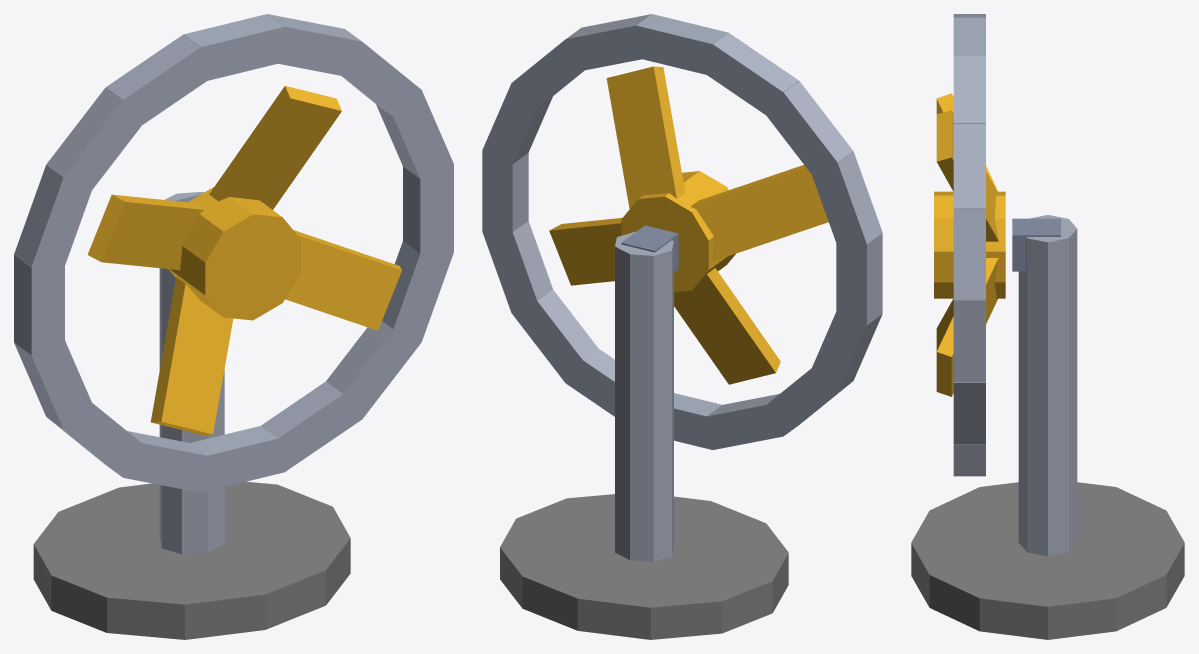
File: fan.glb
The picture shows the model from 3 angles, left to right: view 1: azimuth 30°, elevation 25°; view 2: azimuth 150°, elevation 25°; view 3: azimuth 270°, elevation 25°; orthographic projection. The views are drawn at different scales.
Parts seen in each view (by area): view 1: fan; view 2: fan; view 3: fan.
Part boxes in pixels (box(x1,y1,x2,y2)): fan: box(14, 14, 453, 639); fan: box(482, 14, 882, 639); fan: box(911, 14, 1184, 639).
Bounding box in the file's own units: 1.25 × 1.63 × 0.75.
